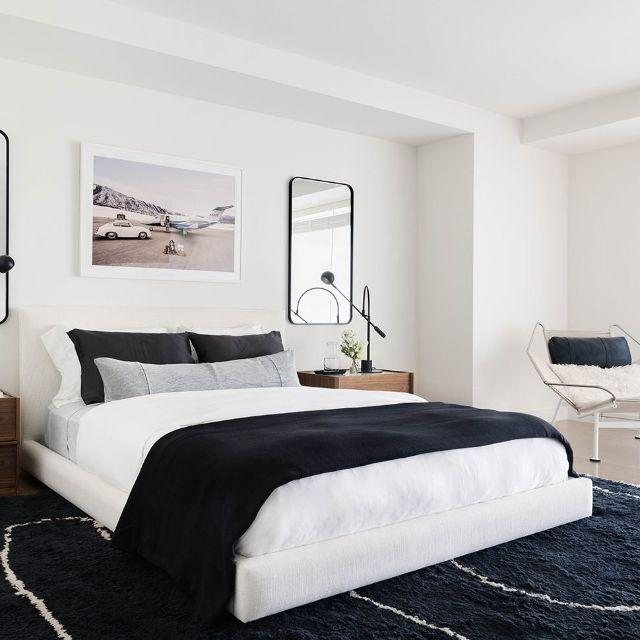bed: (33, 404, 598, 605)
chair: (534, 322, 640, 464)
pillow: (44, 317, 197, 405), (188, 322, 289, 391)
window: (288, 167, 355, 327)
